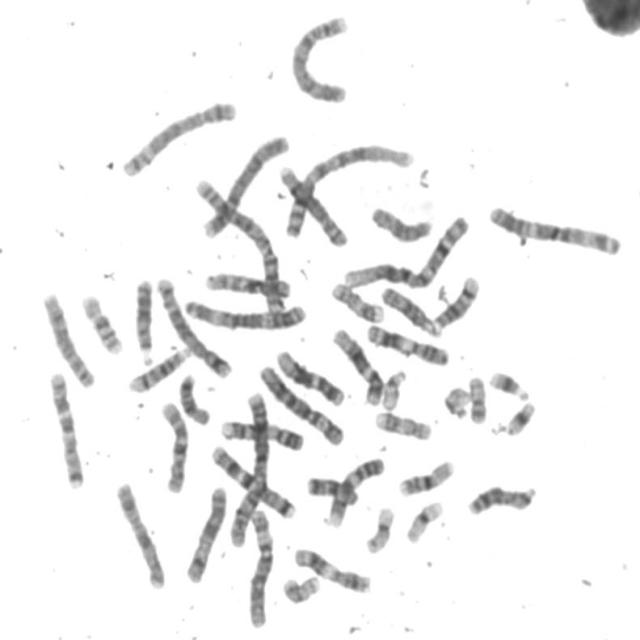A1: (280, 137, 417, 241), (338, 209, 471, 291)
A2: (190, 172, 287, 315), (224, 382, 271, 549)
A3: (482, 197, 624, 258), (178, 290, 308, 332)
B4: (196, 126, 292, 242), (286, 9, 352, 104)
B5: (115, 93, 238, 179), (151, 270, 234, 378)
C10: (155, 394, 191, 495), (200, 265, 293, 303)
C11: (288, 541, 374, 595), (360, 317, 451, 367)
C12: (270, 342, 347, 408), (327, 321, 385, 406)
C6: (254, 358, 346, 446), (241, 502, 275, 631)
C7: (205, 438, 298, 520), (42, 365, 86, 490)
C8: (273, 157, 350, 249), (36, 286, 96, 388)
C9: (322, 451, 387, 528), (215, 412, 306, 452)
D13: (462, 478, 539, 518), (128, 270, 156, 365)
D14: (123, 340, 193, 394), (428, 269, 482, 332)
D15: (376, 278, 442, 338), (365, 199, 434, 244)
E16: (75, 287, 125, 356), (393, 452, 457, 498)
E17: (326, 276, 386, 324), (369, 404, 434, 442)
E18: (173, 366, 212, 426), (302, 469, 361, 506)
F19: (401, 493, 446, 545), (360, 499, 397, 555)
F20: (277, 568, 322, 606), (463, 368, 490, 426)
G21: (484, 363, 532, 402), (499, 394, 538, 438)
G22: (376, 363, 409, 411), (438, 380, 472, 420)
X: (110, 475, 167, 590), (179, 479, 229, 585)
